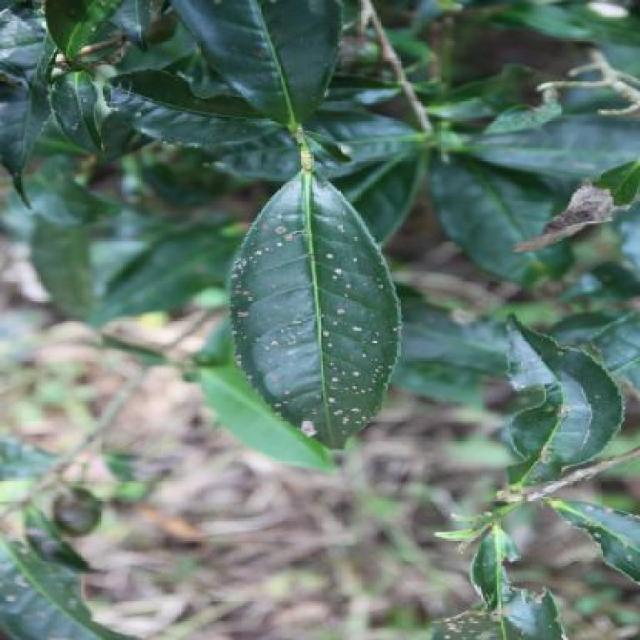Leaf rust of tea: (231, 191, 400, 446)
